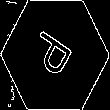P_SE: (28, 26, 82, 84)
